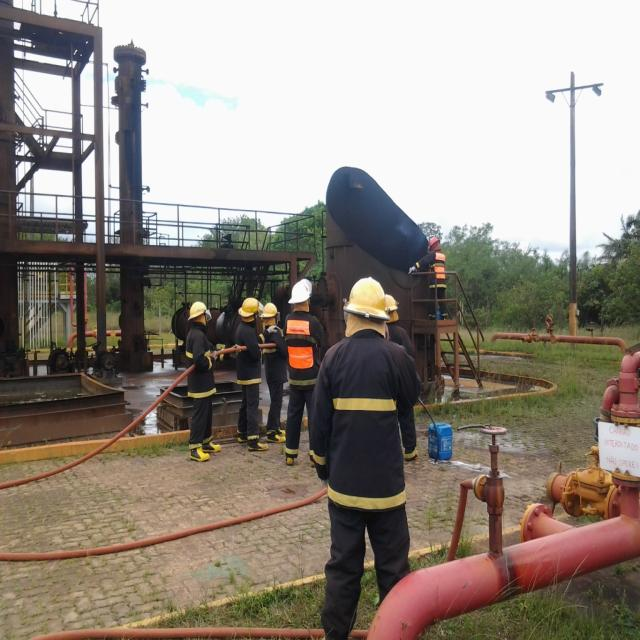no_fire: (54, 56, 615, 625)
